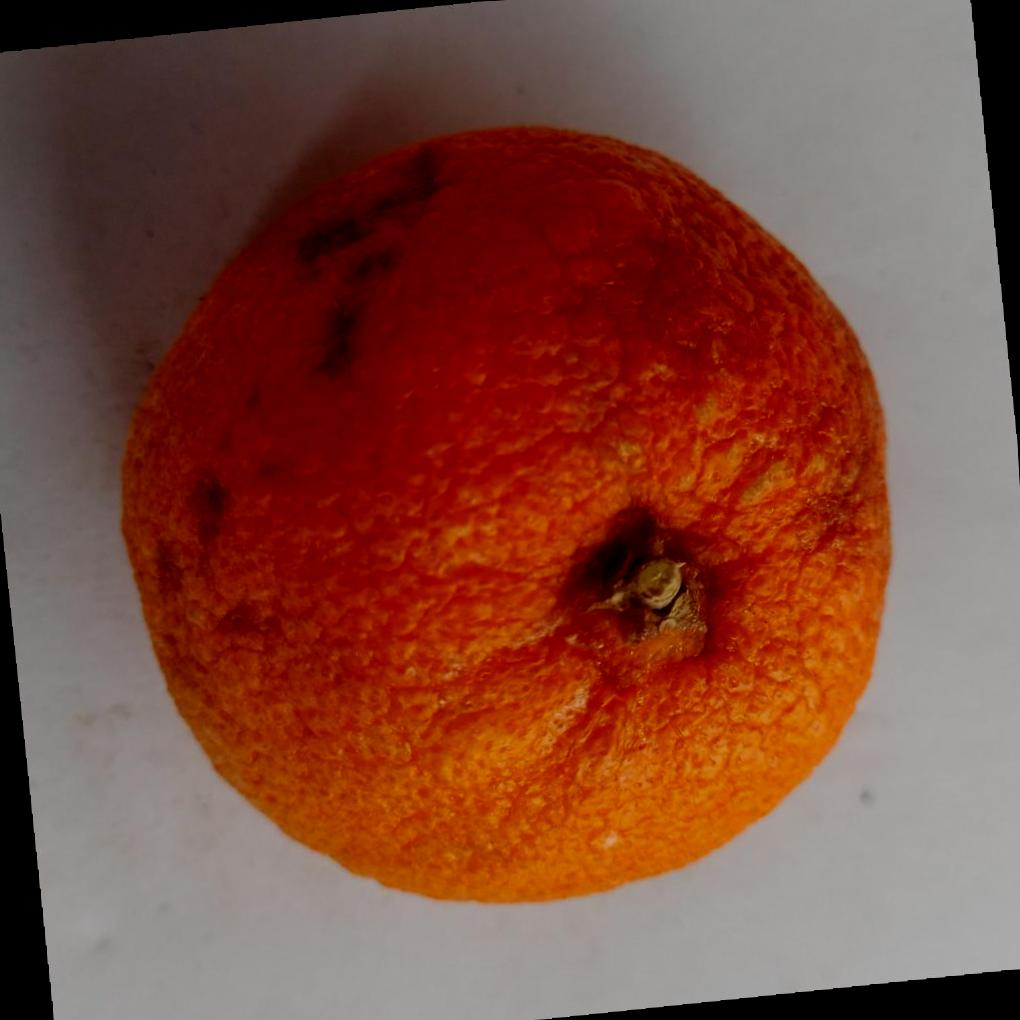FreshOrange: (118, 126, 894, 910)
